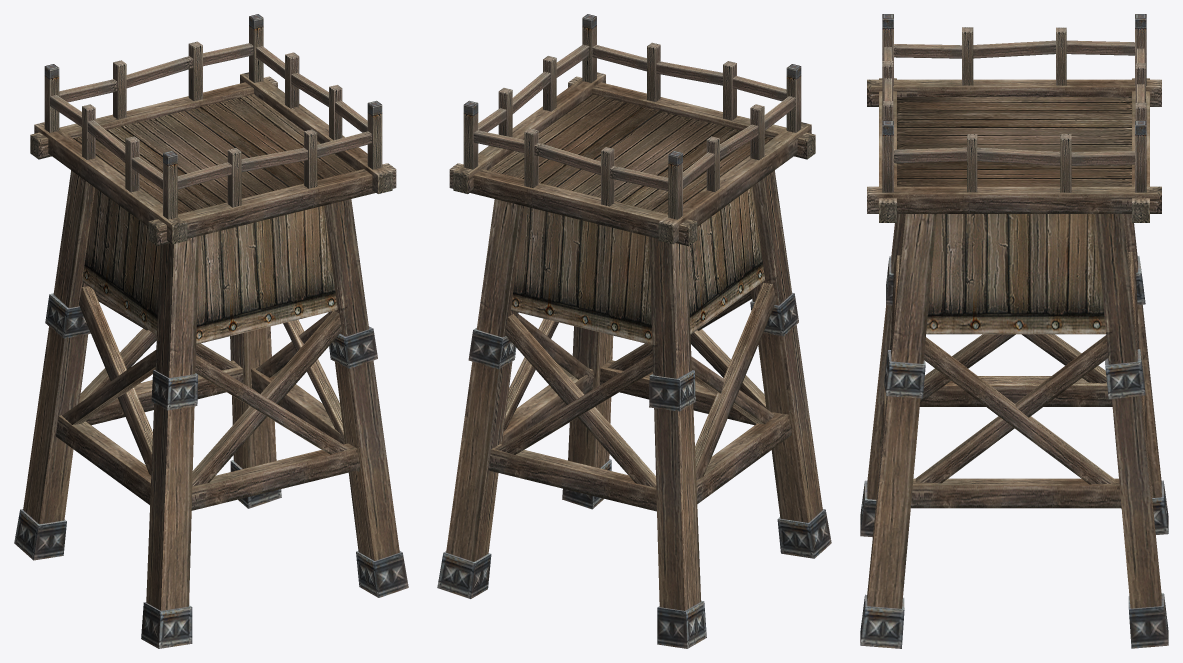
File: ChangBanPoZhiZhan_ShaoTa_01.fbx
3 views of the same model, side by side, from view 1: azimuth 30°, elevation 25°; view 2: azimuth 150°, elevation 25°; view 3: azimuth 270°, elevation 25° (orthographic). The views are drawn at different scales.
Visible parts, largest first — view 1: ChangBanPoZhiZhan_ShaoTa; view 2: ChangBanPoZhiZhan_ShaoTa; view 3: ChangBanPoZhiZhan_ShaoTa.
Boxes of the visible parts, x1,y1,x2,y2 form: ChangBanPoZhiZhan_ShaoTa: (14, 14, 408, 648); ChangBanPoZhiZhan_ShaoTa: (437, 14, 831, 648); ChangBanPoZhiZhan_ShaoTa: (860, 14, 1168, 648).
Size of the model in its own units: 404 by 749 by 404.
1 material, 1 textured.
